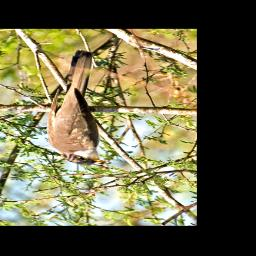Cuckoo: (46, 50, 111, 165)
